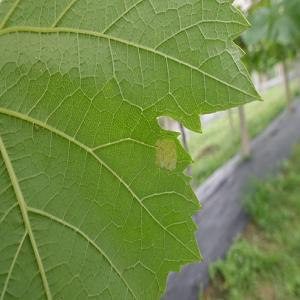Folha: (0, 0, 263, 299)
Fungo: (154, 135, 178, 171), (34, 123, 38, 131)
